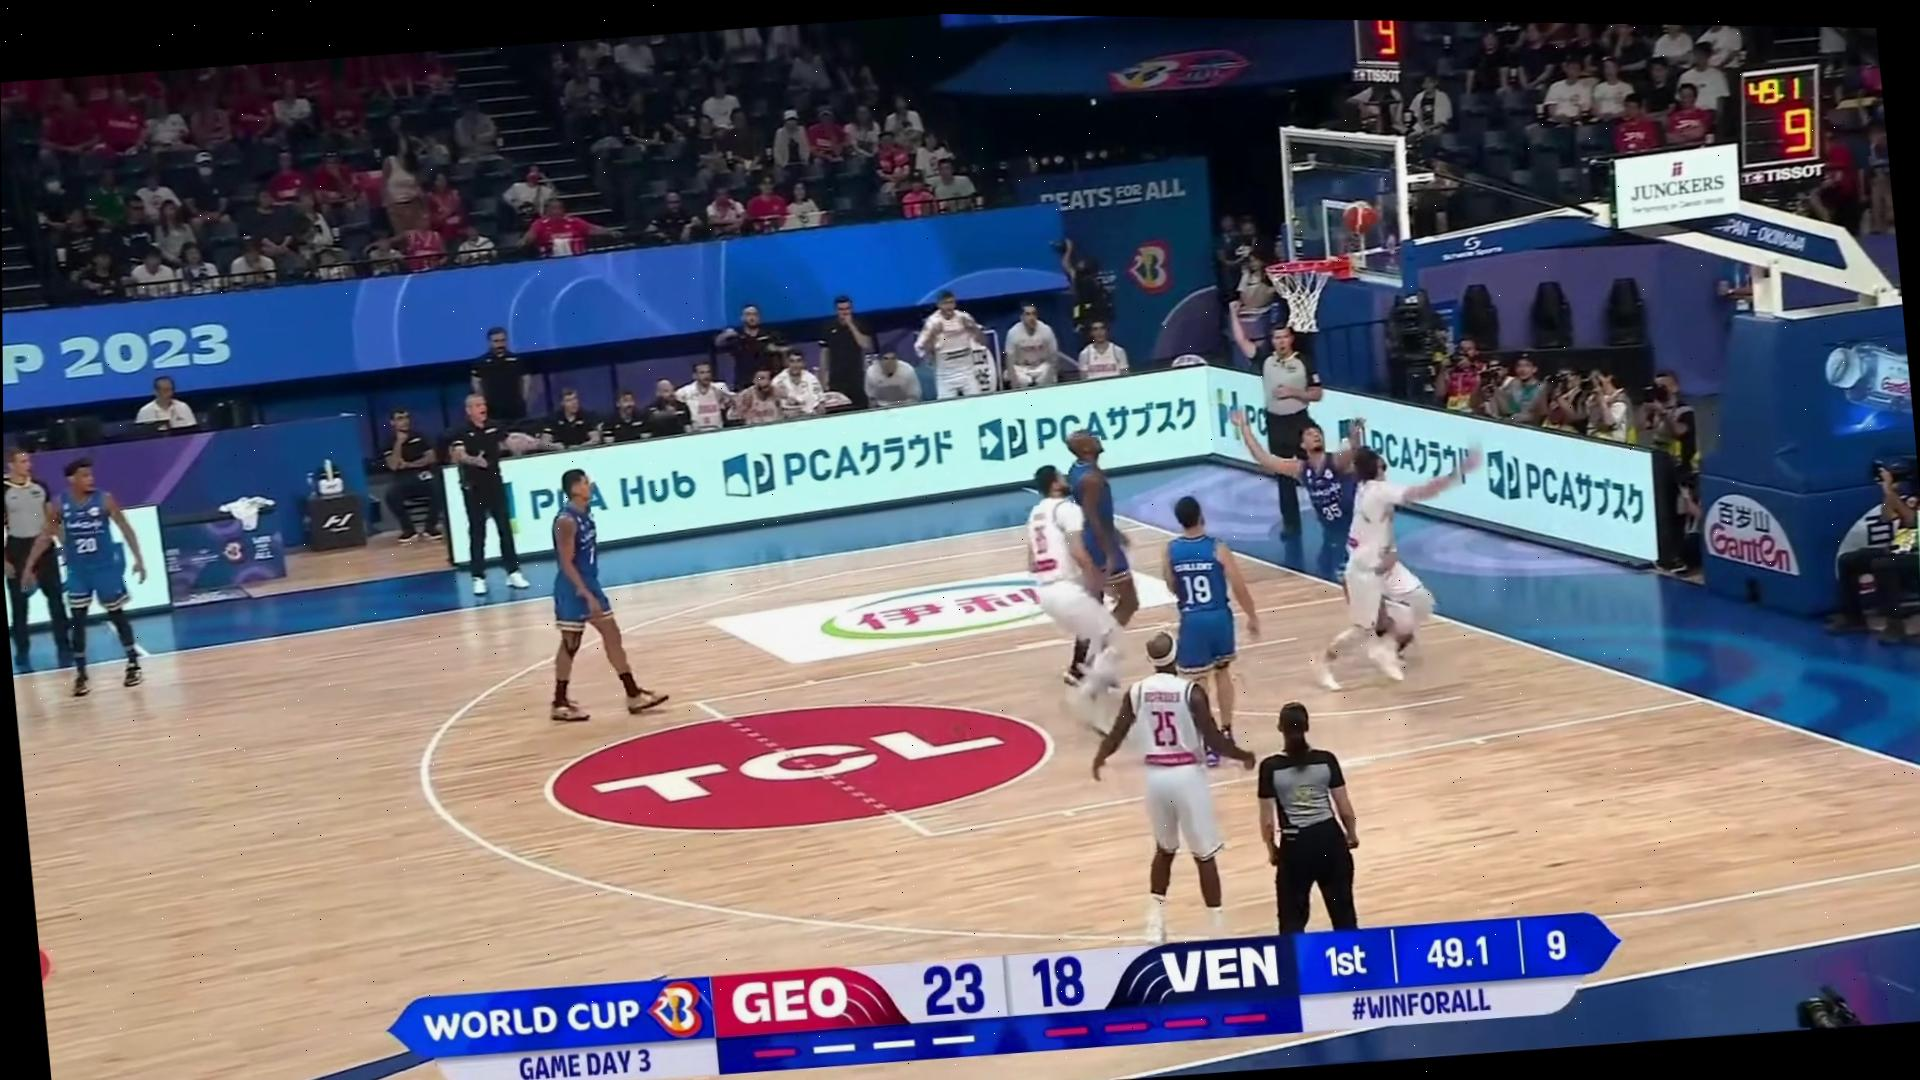foul: (1226, 373, 1458, 691)
